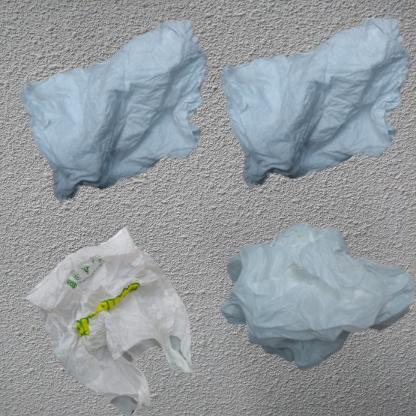bolsa: (10, 213, 215, 416), (213, 213, 416, 388)
papel: (10, 10, 262, 226), (213, 10, 416, 203)
